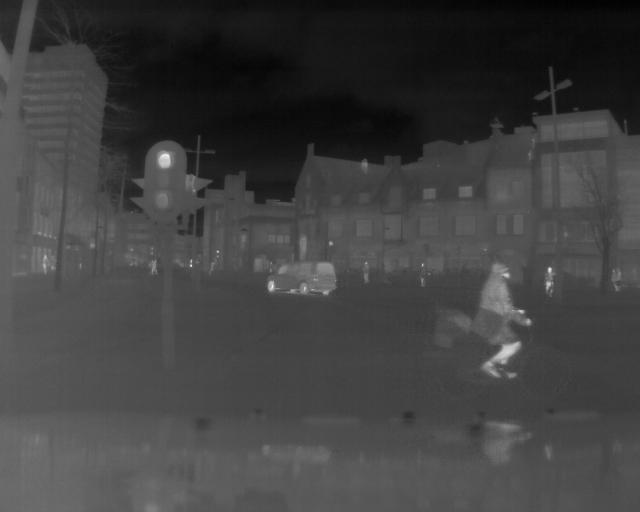car: (263, 257, 341, 300)
person: (466, 255, 536, 381), (357, 258, 373, 287), (543, 264, 555, 300), (417, 257, 431, 286), (40, 253, 51, 275)
